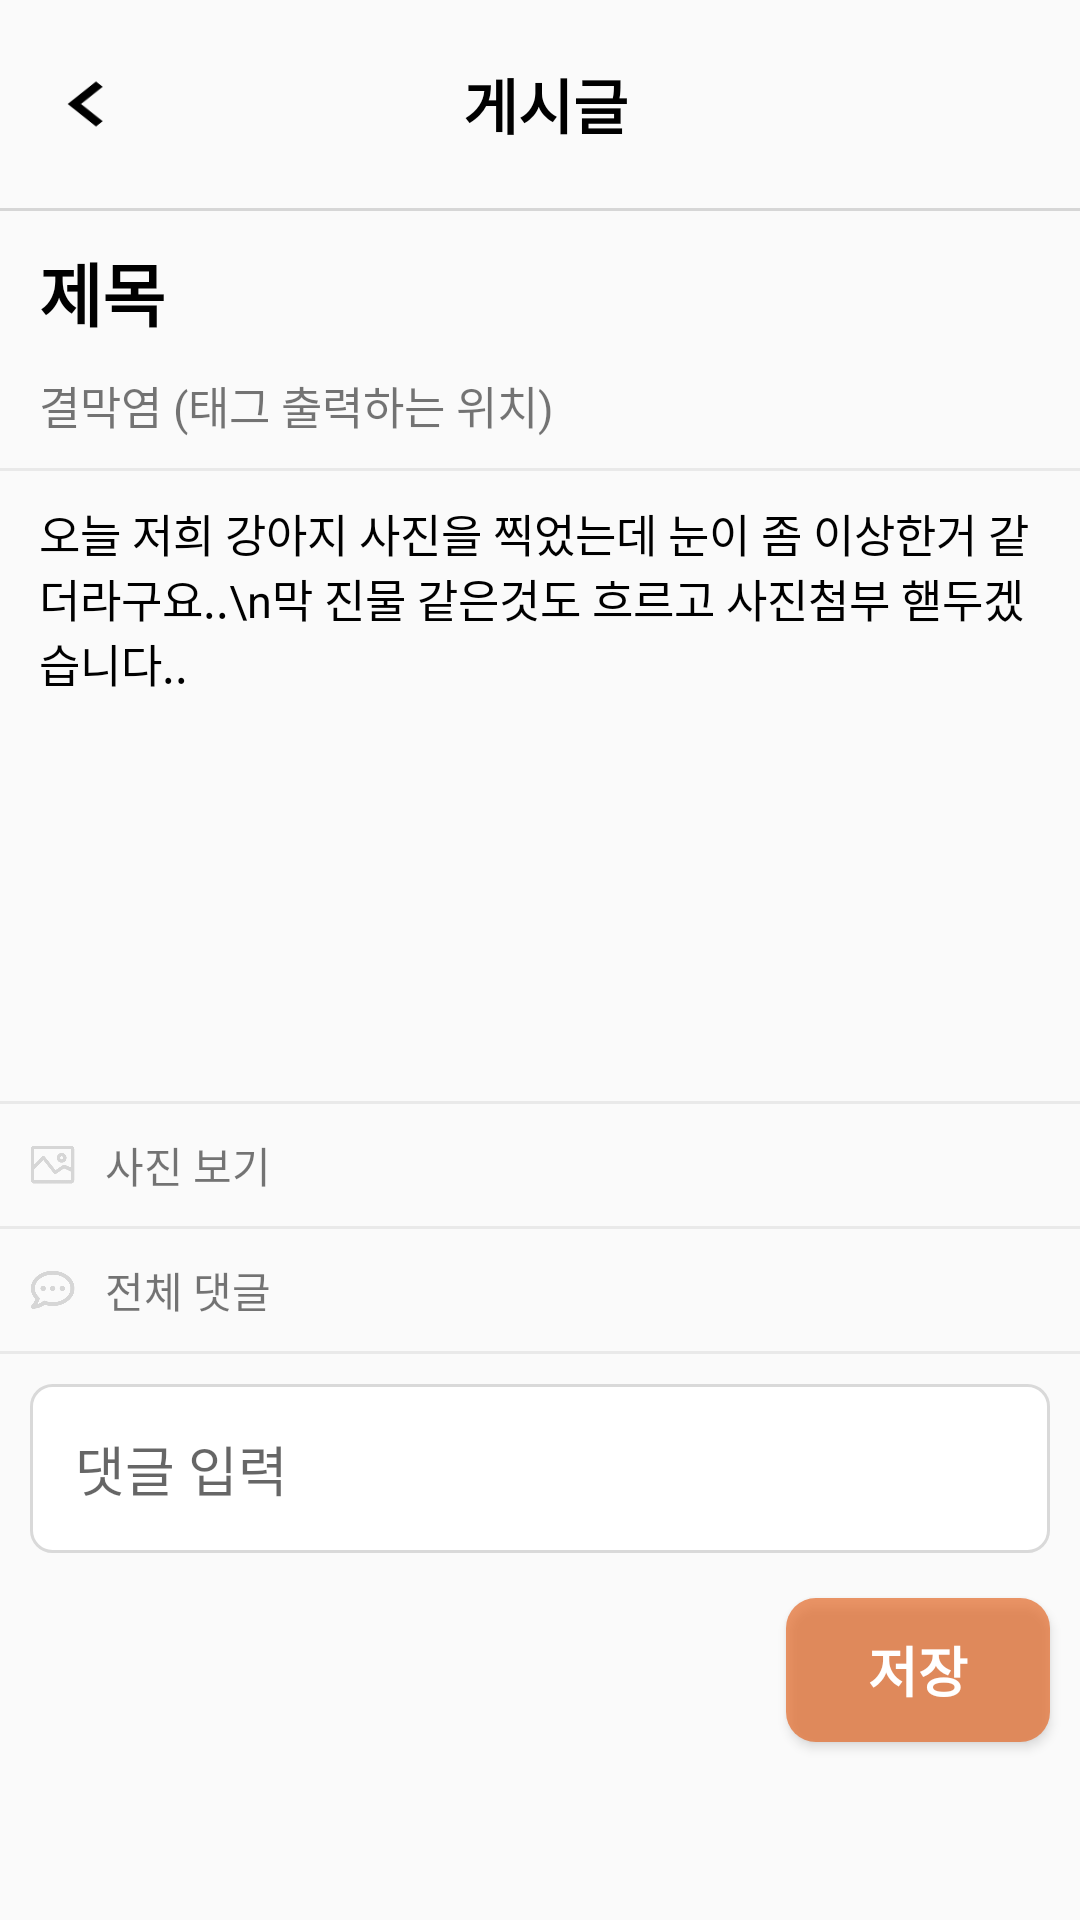

Icons on this 1080w x 1920h Android screen, each with the point to tap as [x,y]:
chat: [52,1290]
